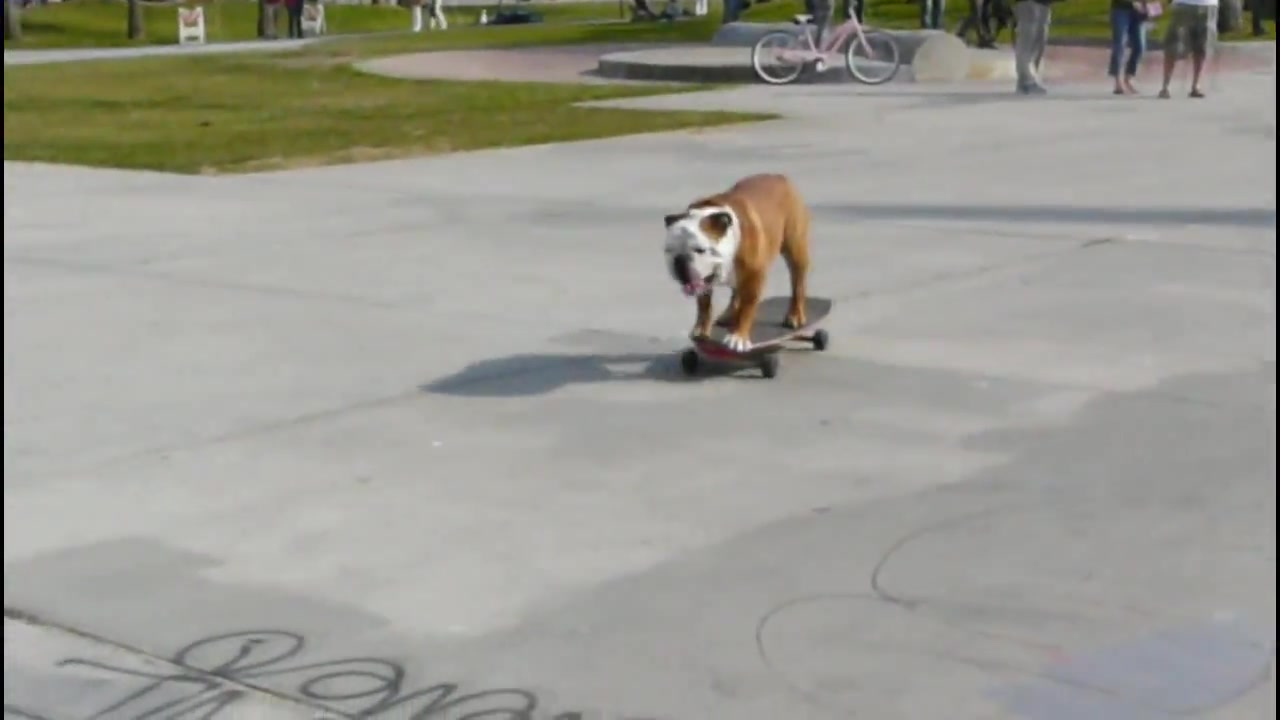dog: (660, 166, 816, 354)
